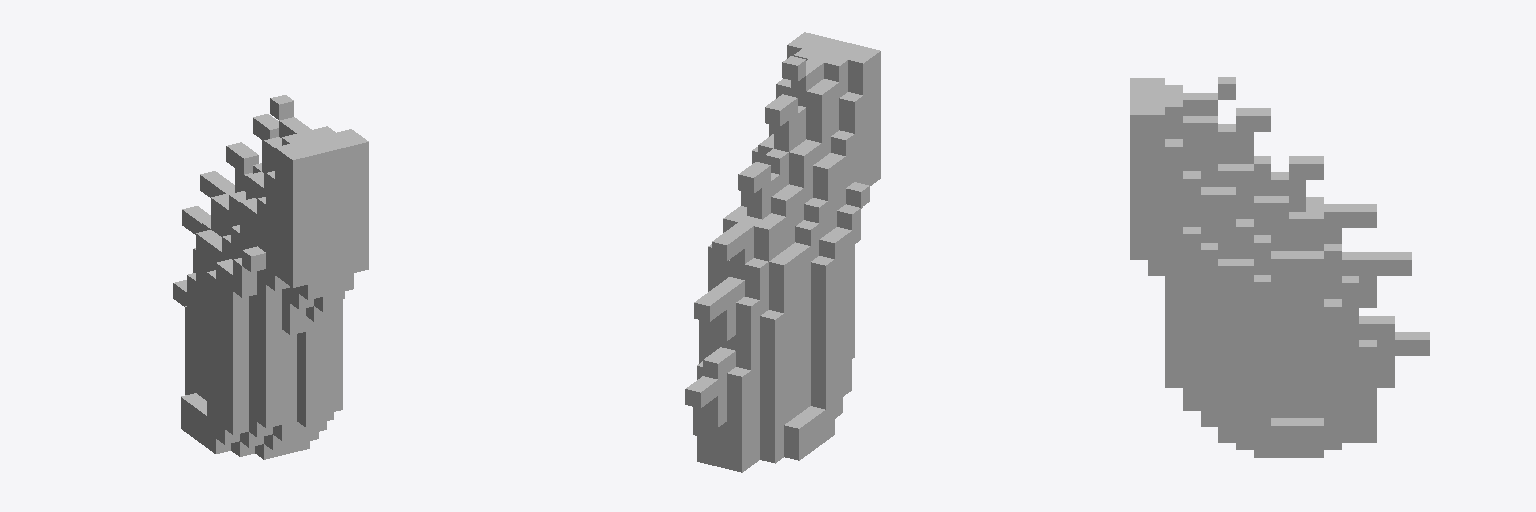
The model's file is LizardMan BOSS neck.obj.
3 renders of one model, left to right at view 1: azimuth 30°, elevation 25°; view 2: azimuth 150°, elevation 25°; view 3: azimuth 270°, elevation 25°, orthographic.
Bounding box in the file's own units: 7 × 22 × 17.